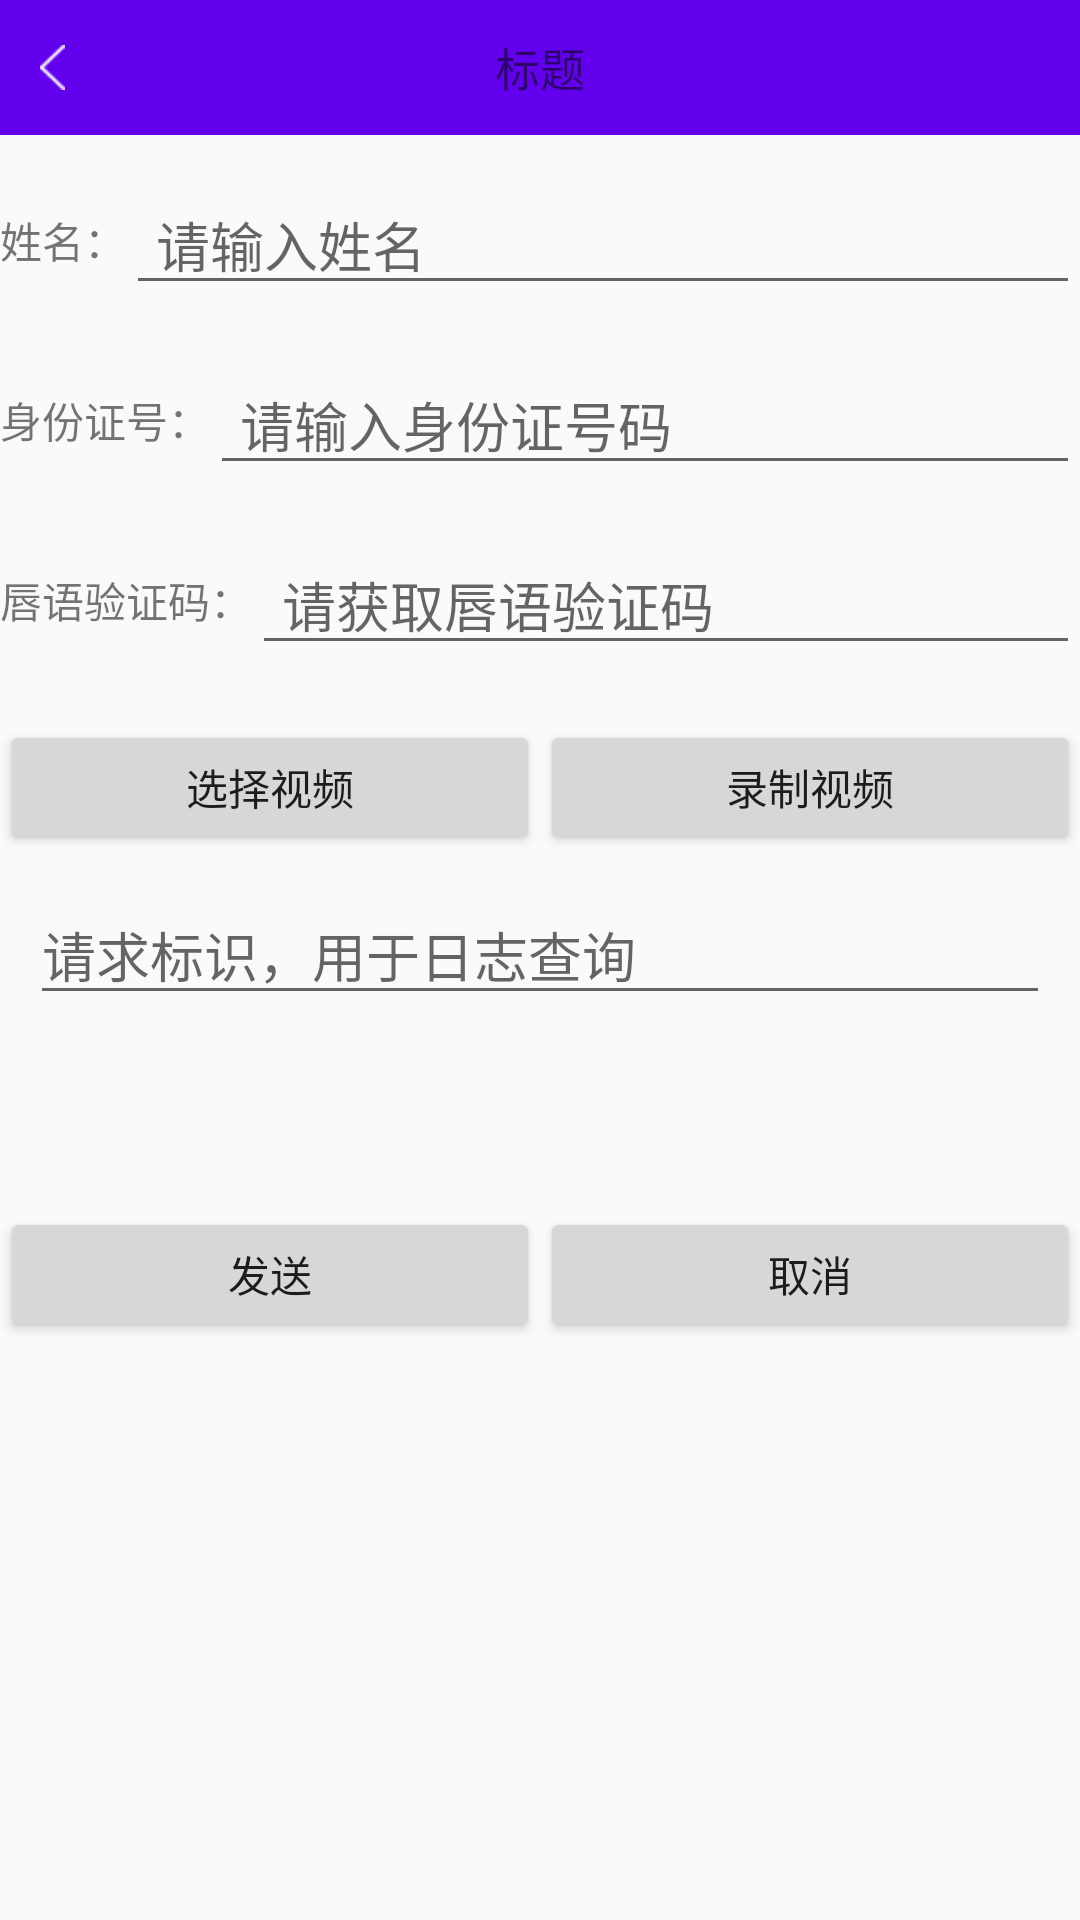

Named icons in this screenshot (1080 × 1920) and their centers, [x,y]:
back: [52,67]
